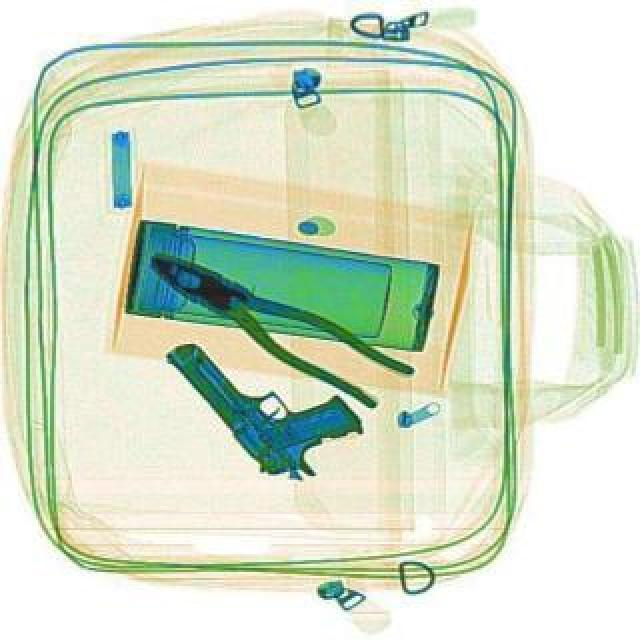gun: (158, 288, 372, 496)
wrench: (132, 228, 412, 416)
